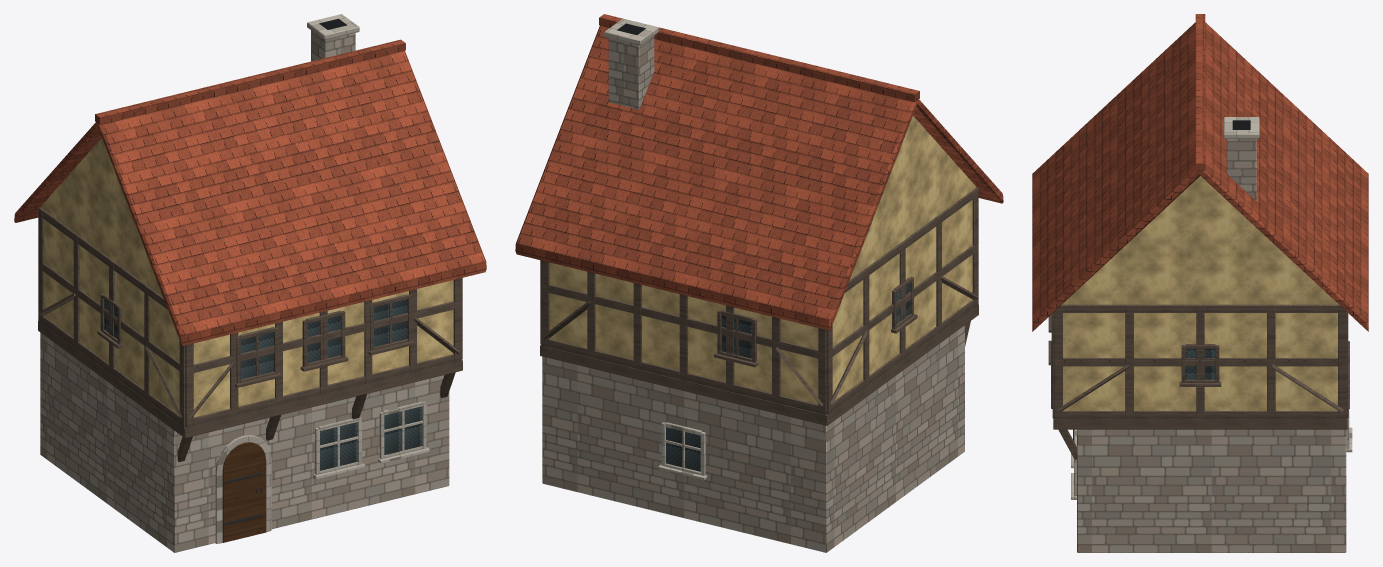
The model's file is half-timbered-house.glb.
3 renders of one model, left to right at view 1: azimuth 30°, elevation 25°; view 2: azimuth 150°, elevation 25°; view 3: azimuth 270°, elevation 25°, orthographic. The views are drawn at different scales.
Visible parts, largest first — view 1: Half_Timbered_House; view 2: Half_Timbered_House; view 3: Half_Timbered_House.
Part boxes in pixels (<box>): Half_Timbered_House: <box>14,14,486,552</box>; Half_Timbered_House: <box>515,14,1003,552</box>; Half_Timbered_House: <box>1032,14,1368,552</box>.
Size of the model in its own units: 7.1 by 9.11 by 6.75.
9 materials, 7 textured.
